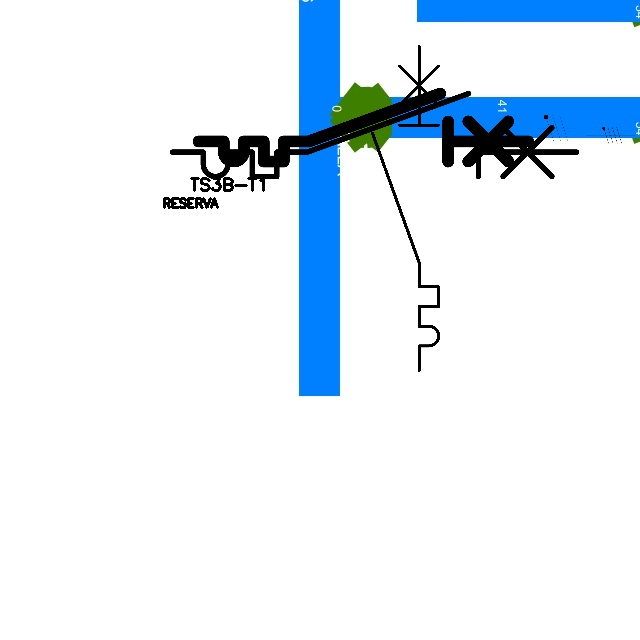interruptor_termomagnetico: (162, 83, 587, 187), (190, 85, 537, 170), (364, 38, 447, 379)
